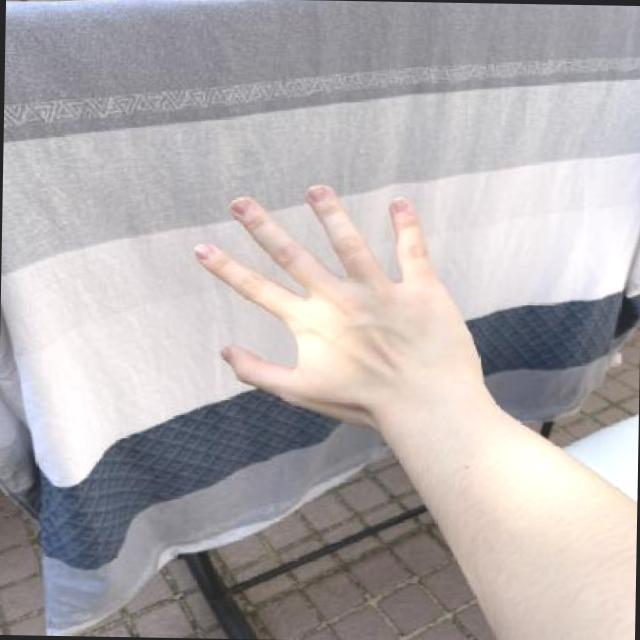hand: (183, 167, 509, 448)
